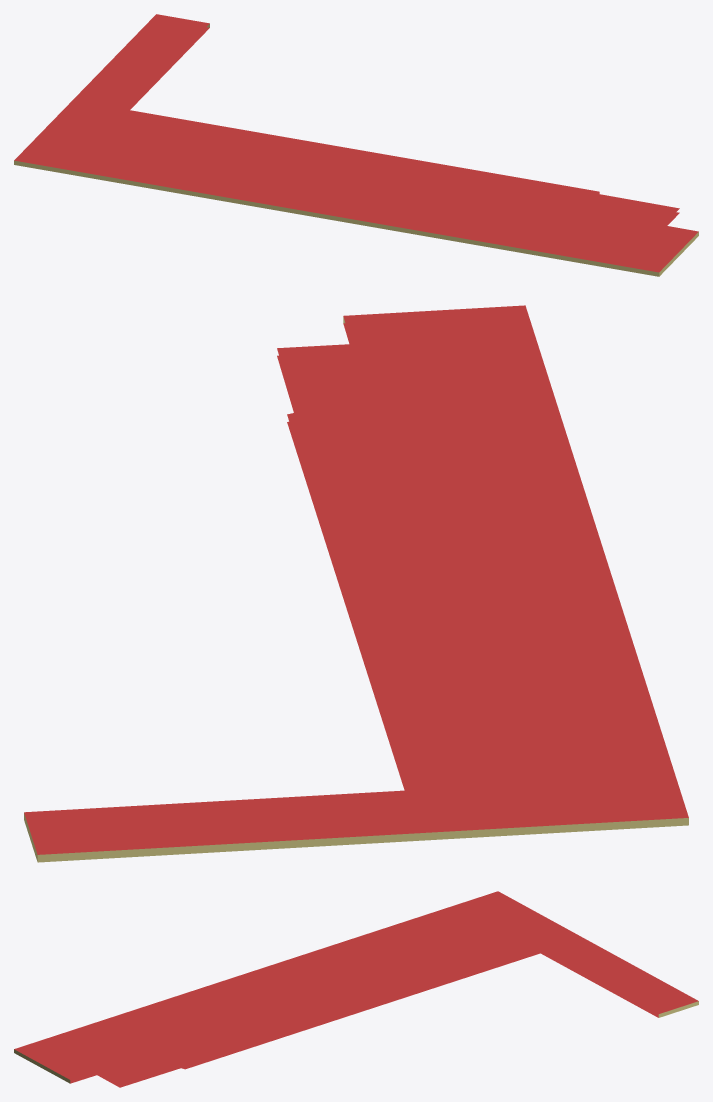
The picture shows the model from 3 angles, top to bottom: view 1: azimuth 30°, elevation 25°; view 2: azimuth 150°, elevation 25°; view 3: azimuth 270°, elevation 25°; orthographic projection. The views are drawn at different scales.
Bounding box in the file's own units: 10.88 × 16.33 × 0.1.
